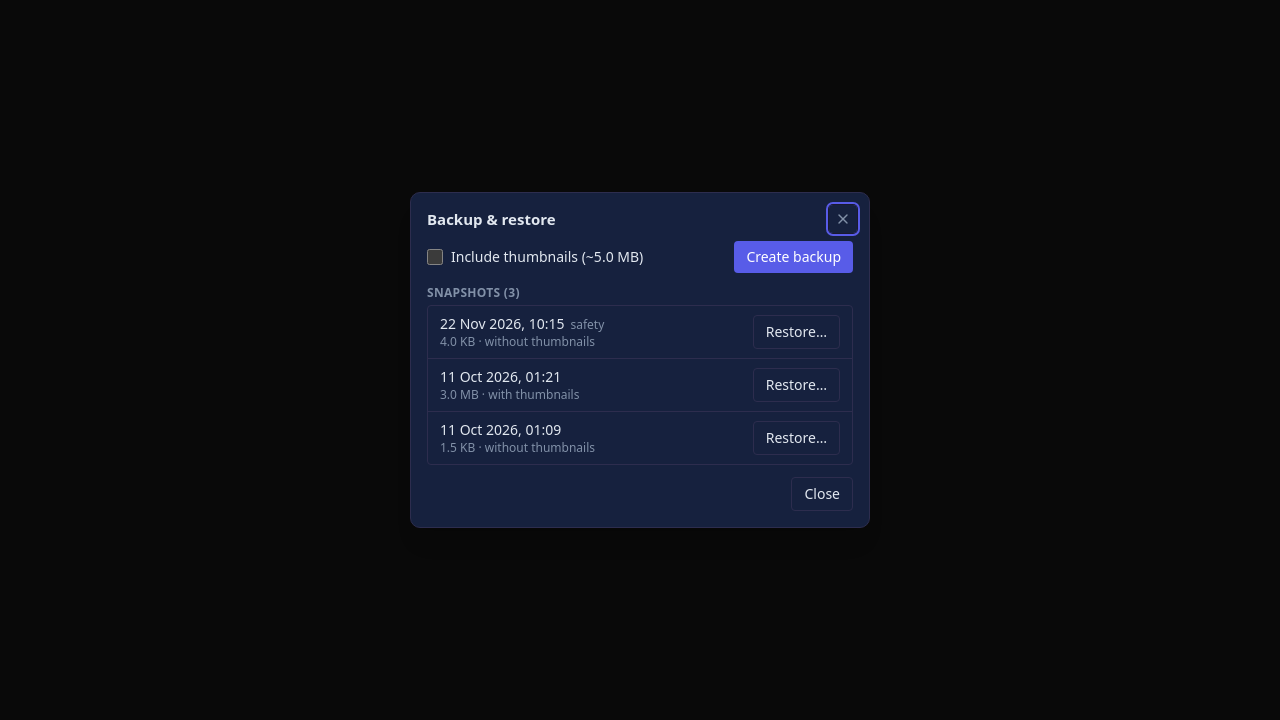
Test: BackupRestoreDialog › restore error {"status":404,"body":{"ok":false,"error":"snapshot not found: x"}} stays in the confirmation; nothing else changes
Click the button "Restore…" in the row of "22 Nov 2026, 10:15". click: {"x": 796, "y": 332}
box: [753,315,840,349]
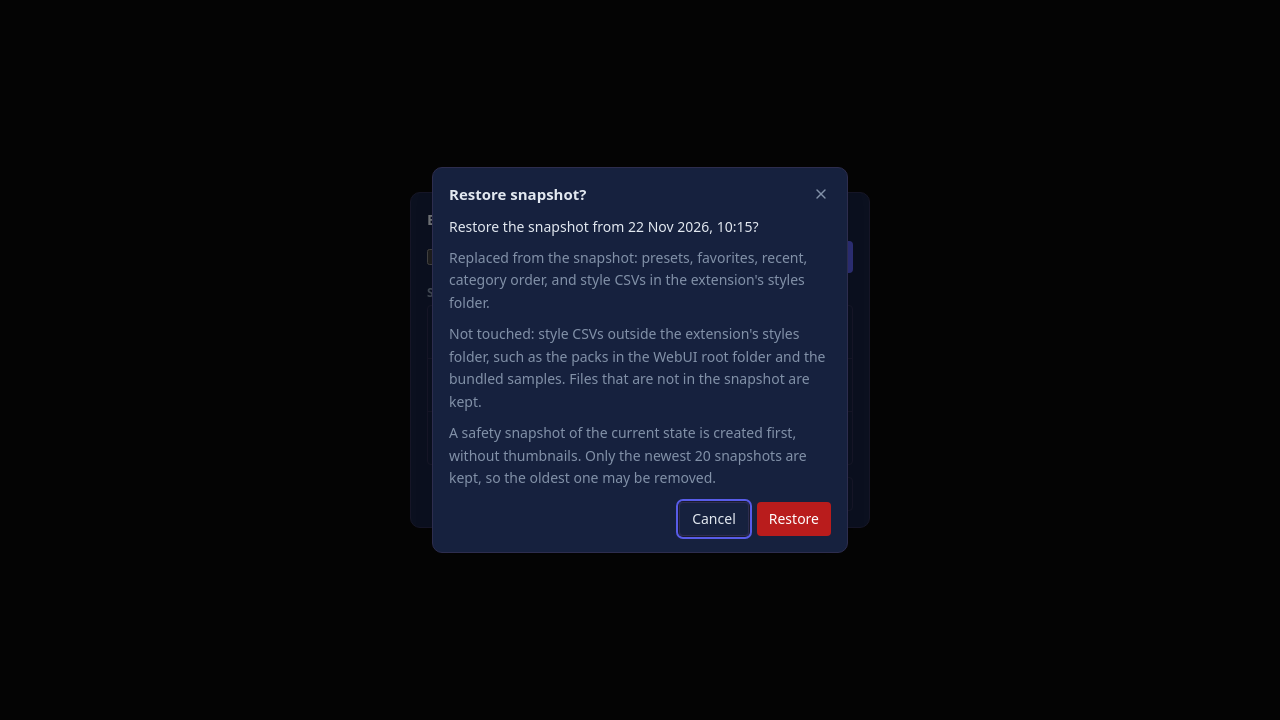
Click the button "Restore". click: {"x": 794, "y": 519}
box: [757,502,831,536]
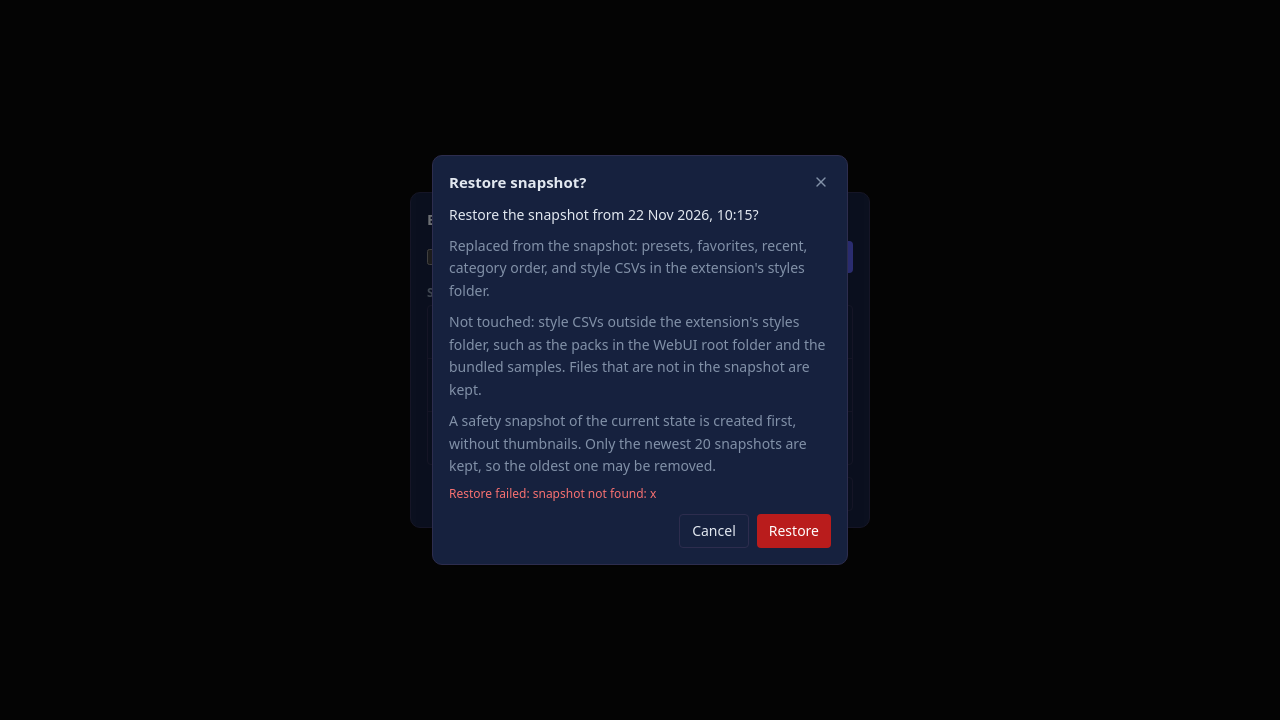
Expected: the button "Restore" is enabled, [757,514,831,548]
Expected: the message "Restore failed: snapshot not found: x" is shown, [449,485,656,502]
